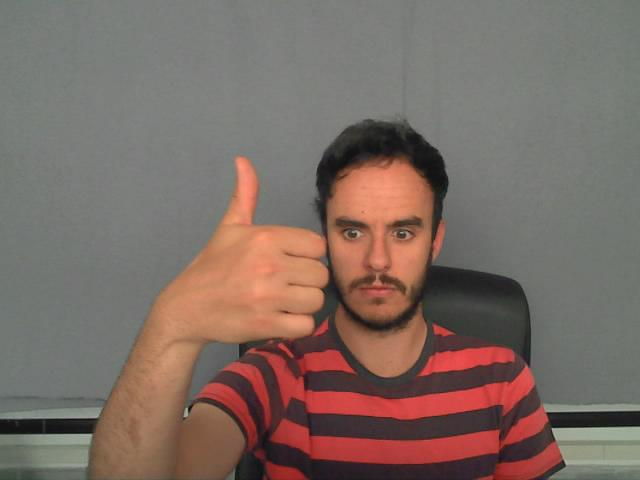thumbs-up: (191, 154, 330, 343)
